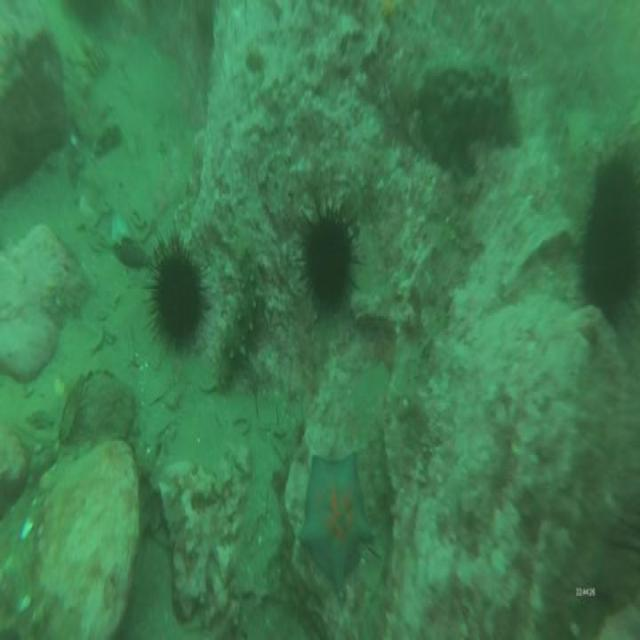echinus: (579, 152, 640, 332), (296, 196, 357, 330), (146, 237, 212, 359)
holothurian: (214, 242, 262, 396)
starfish: (301, 444, 375, 607)
